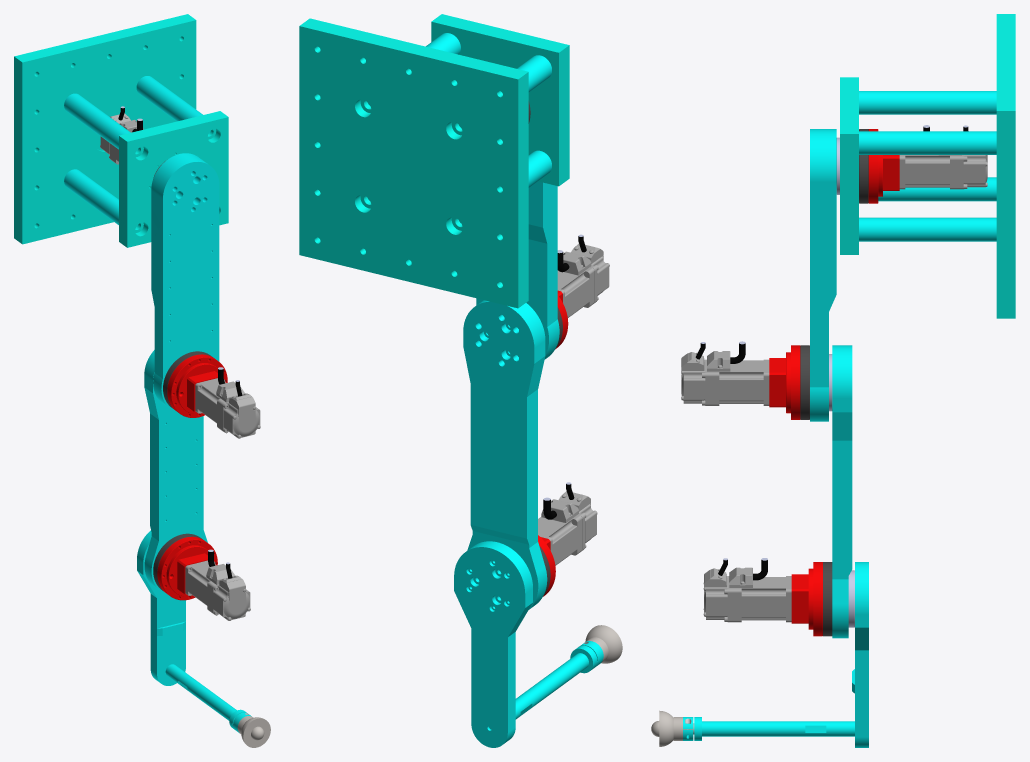
File: HWscar-V2.1.obj
The picture shows the model from 3 angles, left to right: view 1: azimuth 30°, elevation 25°; view 2: azimuth 150°, elevation 25°; view 3: azimuth 270°, elevation 25°; orthographic projection. The views are drawn at different scales.
Visible parts, largest first — view 1: mesh93, mesh826, mesh745, mesh136, mesh87, mesh830, mesh96, mesh97, mesh231, mesh48, mesh467, mesh755 (+12 smaller); view 2: mesh130, mesh821, mesh43, mesh161, mesh96, mesh97, mesh87, mesh830, mesh755, mesh832, mesh467, mesh74 (+10 smaller); view 3: mesh87, mesh829, mesh94, mesh754, mesh478, mesh74, mesh137, mesh341, mesh233, mesh97, mesh828, mesh467 (+11 smaller).
Boxes of the visible parts, x1,y1,x2,y2 form: mesh93: [22, 20, 196, 244]; mesh826: [161, 162, 219, 412]; mesh745: [151, 372, 207, 594]; mesh136: [127, 117, 228, 247]; mesh87: [64, 76, 202, 224]; mesh830: [151, 191, 162, 378]; mesh96: [14, 56, 22, 243]; mesh97: [14, 14, 195, 62]; mesh231: [161, 357, 227, 600]; mesh48: [157, 629, 185, 685]; mesh467: [185, 386, 221, 610]; mesh755: [150, 413, 158, 540]; mesh130: [299, 26, 518, 308]; mesh821: [463, 301, 534, 538]; mesh43: [454, 547, 525, 747]; mesh161: [431, 21, 558, 186]; mesh96: [518, 72, 528, 307]; mesh97: [300, 18, 528, 79]; mesh87: [426, 33, 551, 187]; mesh830: [543, 182, 557, 326]; mesh755: [527, 389, 537, 547]; mesh832: [476, 239, 548, 355]; mesh467: [550, 271, 594, 564]; mesh74: [515, 653, 588, 719]; mesh87: [859, 91, 996, 241]; mesh829: [810, 182, 836, 387]; mesh94: [996, 111, 1015, 318]; mesh754: [832, 440, 852, 579]; mesh478: [709, 376, 791, 620]; mesh74: [702, 721, 854, 736]; mesh137: [840, 134, 858, 254]; mesh341: [800, 129, 868, 636]; mesh233: [791, 129, 877, 636]; mesh97: [996, 14, 1015, 110]; mesh828: [810, 129, 836, 181]; mesh467: [899, 160, 959, 187].
Bounding box in the file's own units: 0.24 × 0.79 × 0.3817.
